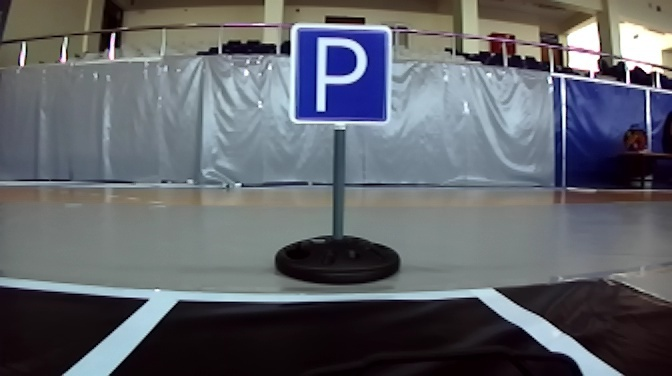park: (288, 19, 392, 128)
